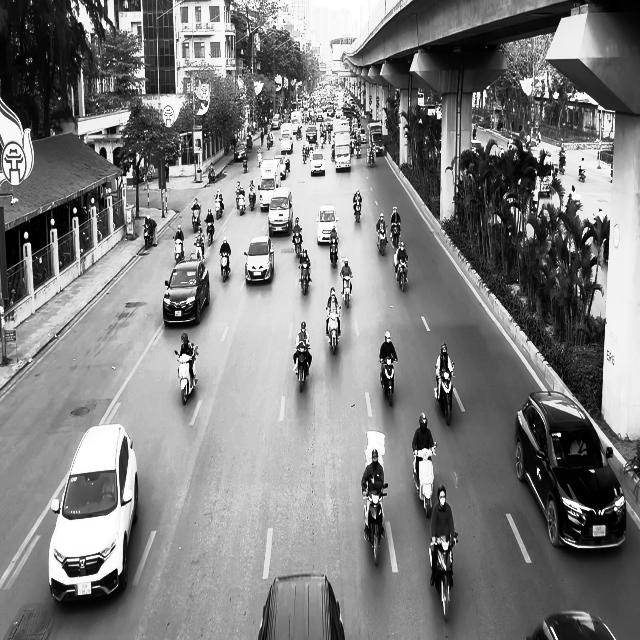car: (514, 389, 627, 551), (48, 422, 139, 604), (258, 573, 346, 639), (162, 258, 210, 326), (526, 610, 616, 640), (244, 235, 274, 284), (268, 187, 293, 236), (316, 204, 339, 245)
motorbike: (428, 532, 458, 622), (362, 482, 388, 566), (412, 441, 437, 518), (174, 345, 198, 405), (434, 362, 455, 426), (379, 355, 397, 406), (294, 344, 311, 392), (326, 307, 341, 354), (394, 254, 408, 292), (340, 271, 353, 308), (299, 260, 311, 294), (376, 226, 387, 256), (220, 251, 230, 282), (173, 237, 184, 264), (292, 228, 302, 257), (329, 236, 338, 268), (390, 221, 400, 248), (144, 222, 154, 249), (204, 219, 214, 246), (194, 237, 204, 263), (236, 190, 245, 215), (353, 196, 361, 222), (215, 196, 223, 219), (248, 188, 256, 210), (578, 165, 586, 181), (242, 156, 248, 173)
